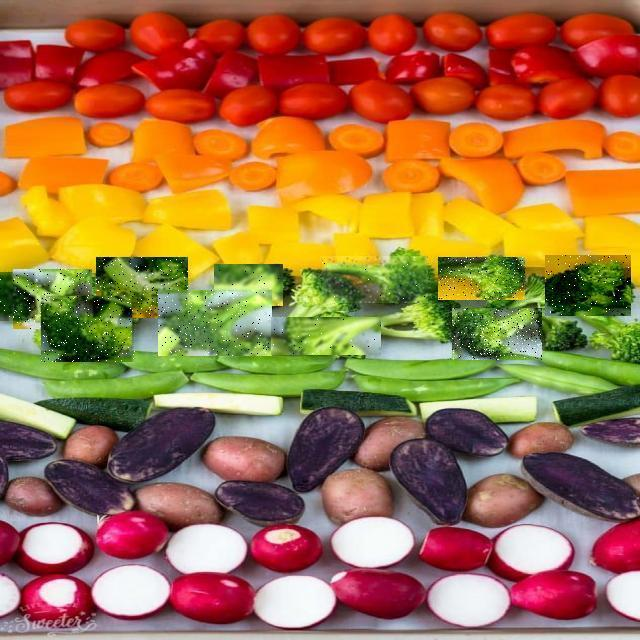Broccoli: (158, 290, 272, 356), (42, 296, 136, 362), (96, 257, 188, 318), (545, 255, 631, 316), (323, 256, 429, 303), (13, 269, 92, 329), (452, 308, 542, 360), (271, 317, 381, 355), (438, 257, 525, 300), (214, 264, 283, 306), (0, 272, 35, 321)
